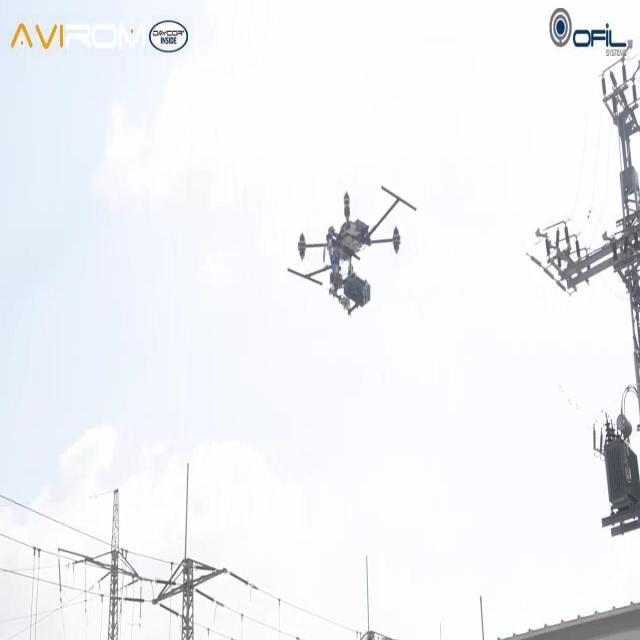UAV: (288, 186, 417, 284)
